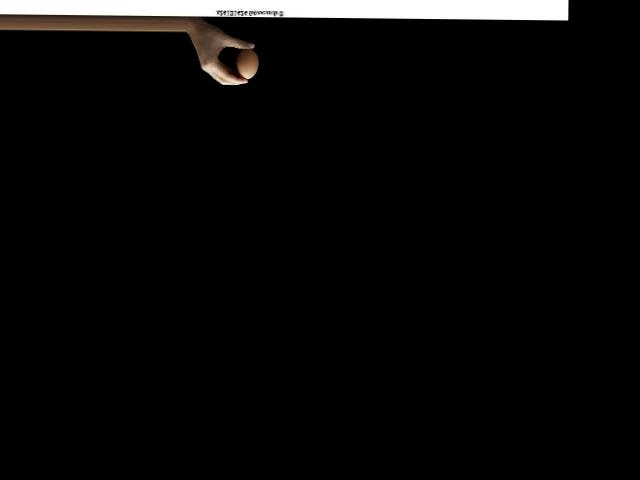egg: (236, 48, 259, 79)
